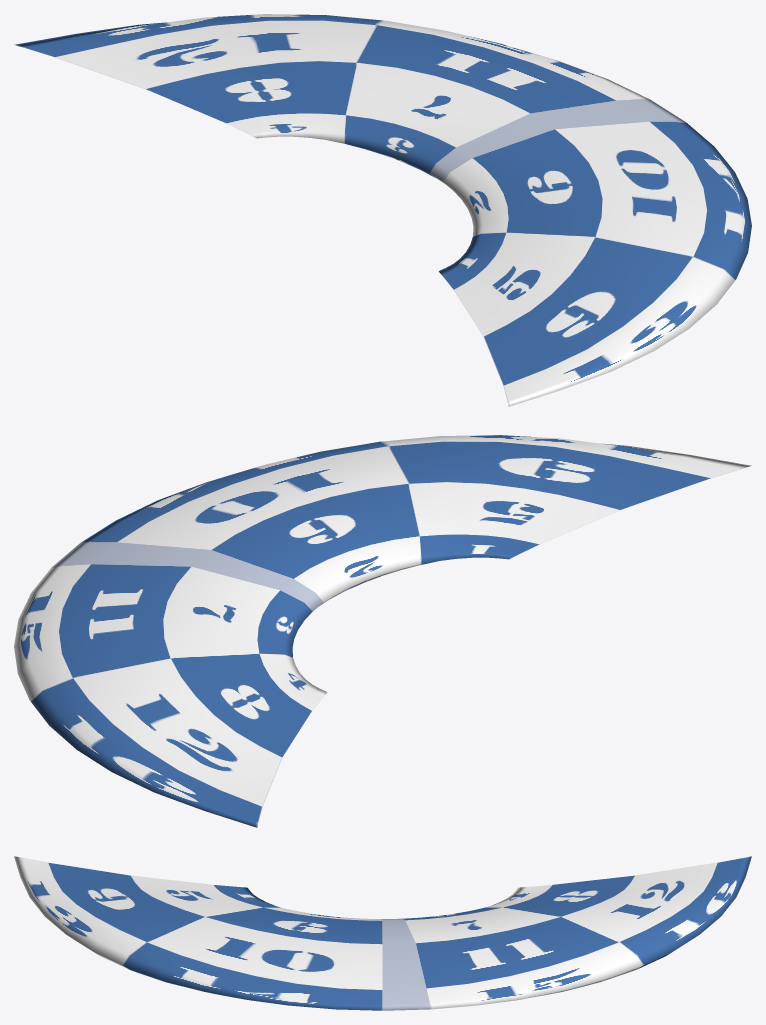
The model's file is Slash10.fbx.
3 views of the same model, one above another, from view 1: azimuth 30°, elevation 25°; view 2: azimuth 150°, elevation 25°; view 3: azimuth 270°, elevation 25° (orthographic). The views are drawn at different scales.
Visible parts, largest first — view 1: SM_e_cmn_Slash003; view 2: SM_e_cmn_Slash003; view 3: SM_e_cmn_Slash003.
Boxes of the visible parts, box(x1,y1,x2,y2) form: SM_e_cmn_Slash003: box(14, 14, 751, 406); SM_e_cmn_Slash003: box(14, 435, 751, 827); SM_e_cmn_Slash003: box(14, 856, 751, 1010).
Size of the model in its own units: 237 by 27.66 by 479.
